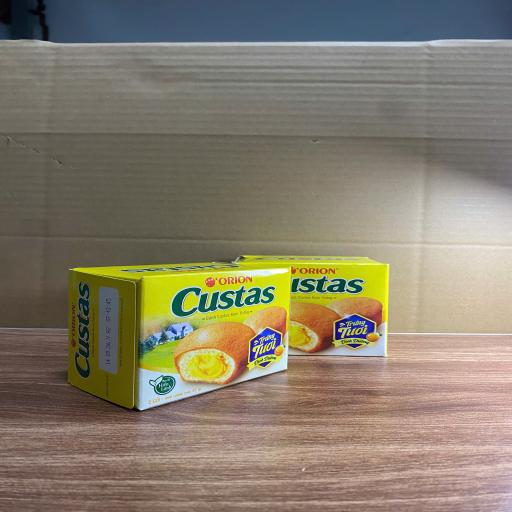custas: (67, 261, 292, 412), (234, 255, 390, 357)
